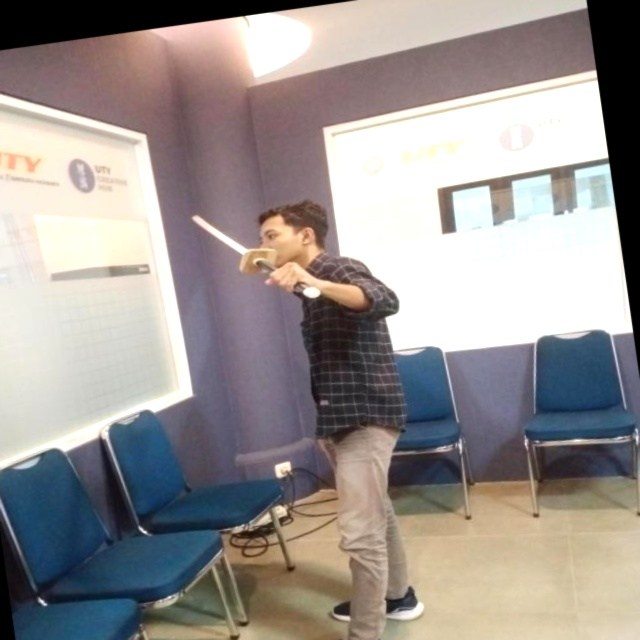Sharp-Object: (163, 190, 330, 330)
